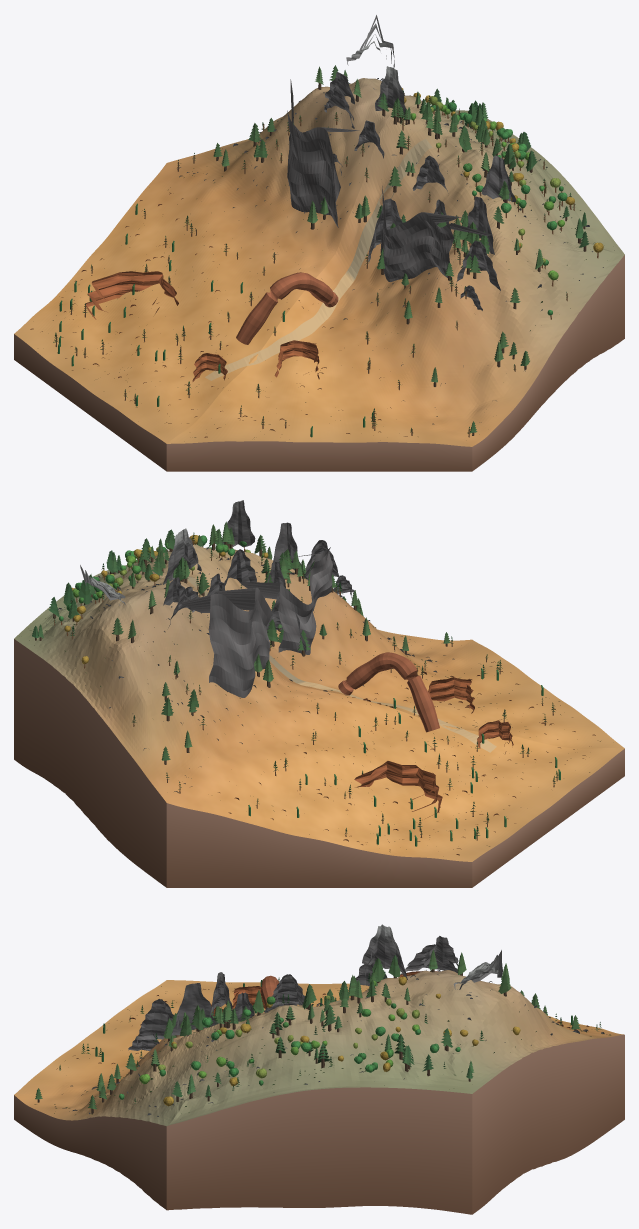
The picture shows the model from 3 angles, top to bottom: view 1: azimuth 30°, elevation 25°; view 2: azimuth 150°, elevation 25°; view 3: azimuth 270°, elevation 25°; orthographic projection.
Visible parts, largest first — view 1: terrain, hex_side_cut, stratified_cliff_faces, conifers, angular_escarpments, sandstone_mesas, dry_streambed, ecotone_broadleaf_canopy, natural_stone_arch, biome_blend_trunks, biome_blend_conifers, trunks (+2 smaller); view 2: terrain, hex_side_cut, stratified_cliff_faces, conifers, angular_escarpments, sandstone_mesas, natural_stone_arch, ecotone_broadleaf_canopy, biome_blend_conifers, dry_streambed, cacti, loose_rocks (+2 smaller); view 3: hex_side_cut, terrain, angular_escarpments, conifers, ecotone_broadleaf_canopy, trunks, biome_blend_conifers, loose_rocks, sandstone_mesas.
Boxes of the visible parts, left/top/right/bottom form: terrain: left=14, top=78, right=624, bottom=446; hex_side_cut: left=14, top=255, right=624, bottom=471; stratified_cliff_faces: left=287, top=79, right=491, bottom=281; conifers: left=213, top=65, right=589, bottom=432; angular_escarpments: left=324, top=15, right=515, bottom=310; sandstone_mesas: left=84, top=271, right=320, bottom=381; dry_streambed: left=205, top=139, right=432, bottom=380; ecotone_broadleaf_canopy: left=402, top=88, right=603, bottom=315; natural_stone_arch: left=236, top=272, right=338, bottom=344; biome_blend_trunks: left=55, top=93, right=574, bottom=437; biome_blend_conifers: left=53, top=90, right=573, bottom=433; trunks: left=216, top=83, right=586, bottom=435; terrain: left=14, top=544, right=624, bottom=861; hex_side_cut: left=14, top=639, right=624, bottom=887; stratified_cliff_faces: left=177, top=547, right=332, bottom=697; conifers: left=32, top=521, right=450, bottom=760; angular_escarpments: left=80, top=500, right=354, bottom=652; sandstone_mesas: left=354, top=677, right=513, bottom=818; natural_stone_arch: left=338, top=652, right=439, bottom=732; ecotone_broadleaf_canopy: left=59, top=535, right=268, bottom=663; biome_blend_conifers: left=53, top=532, right=558, bottom=835; dry_streambed: left=187, top=576, right=496, bottom=752; cacti: left=248, top=668, right=560, bottom=846; loose_rocks: left=46, top=547, right=595, bottom=855; hex_side_cut: left=14, top=1034, right=624, bottom=1214; terrain: left=14, top=970, right=623, bottom=1126; angular_escarpments: left=128, top=924, right=502, bottom=1050; conifers: left=35, top=949, right=580, bottom=1109; ecotone_broadleaf_canopy: left=119, top=976, right=520, bottom=1106; trunks: left=37, top=969, right=576, bottom=1113; biome_blend_conifers: left=36, top=970, right=601, bottom=1103; loose_rocks: left=55, top=970, right=604, bottom=1116; sandstone_mesas: left=211, top=971, right=438, bottom=1021.
Size of the model in its own units: 4330 by 2209 by 5000.
